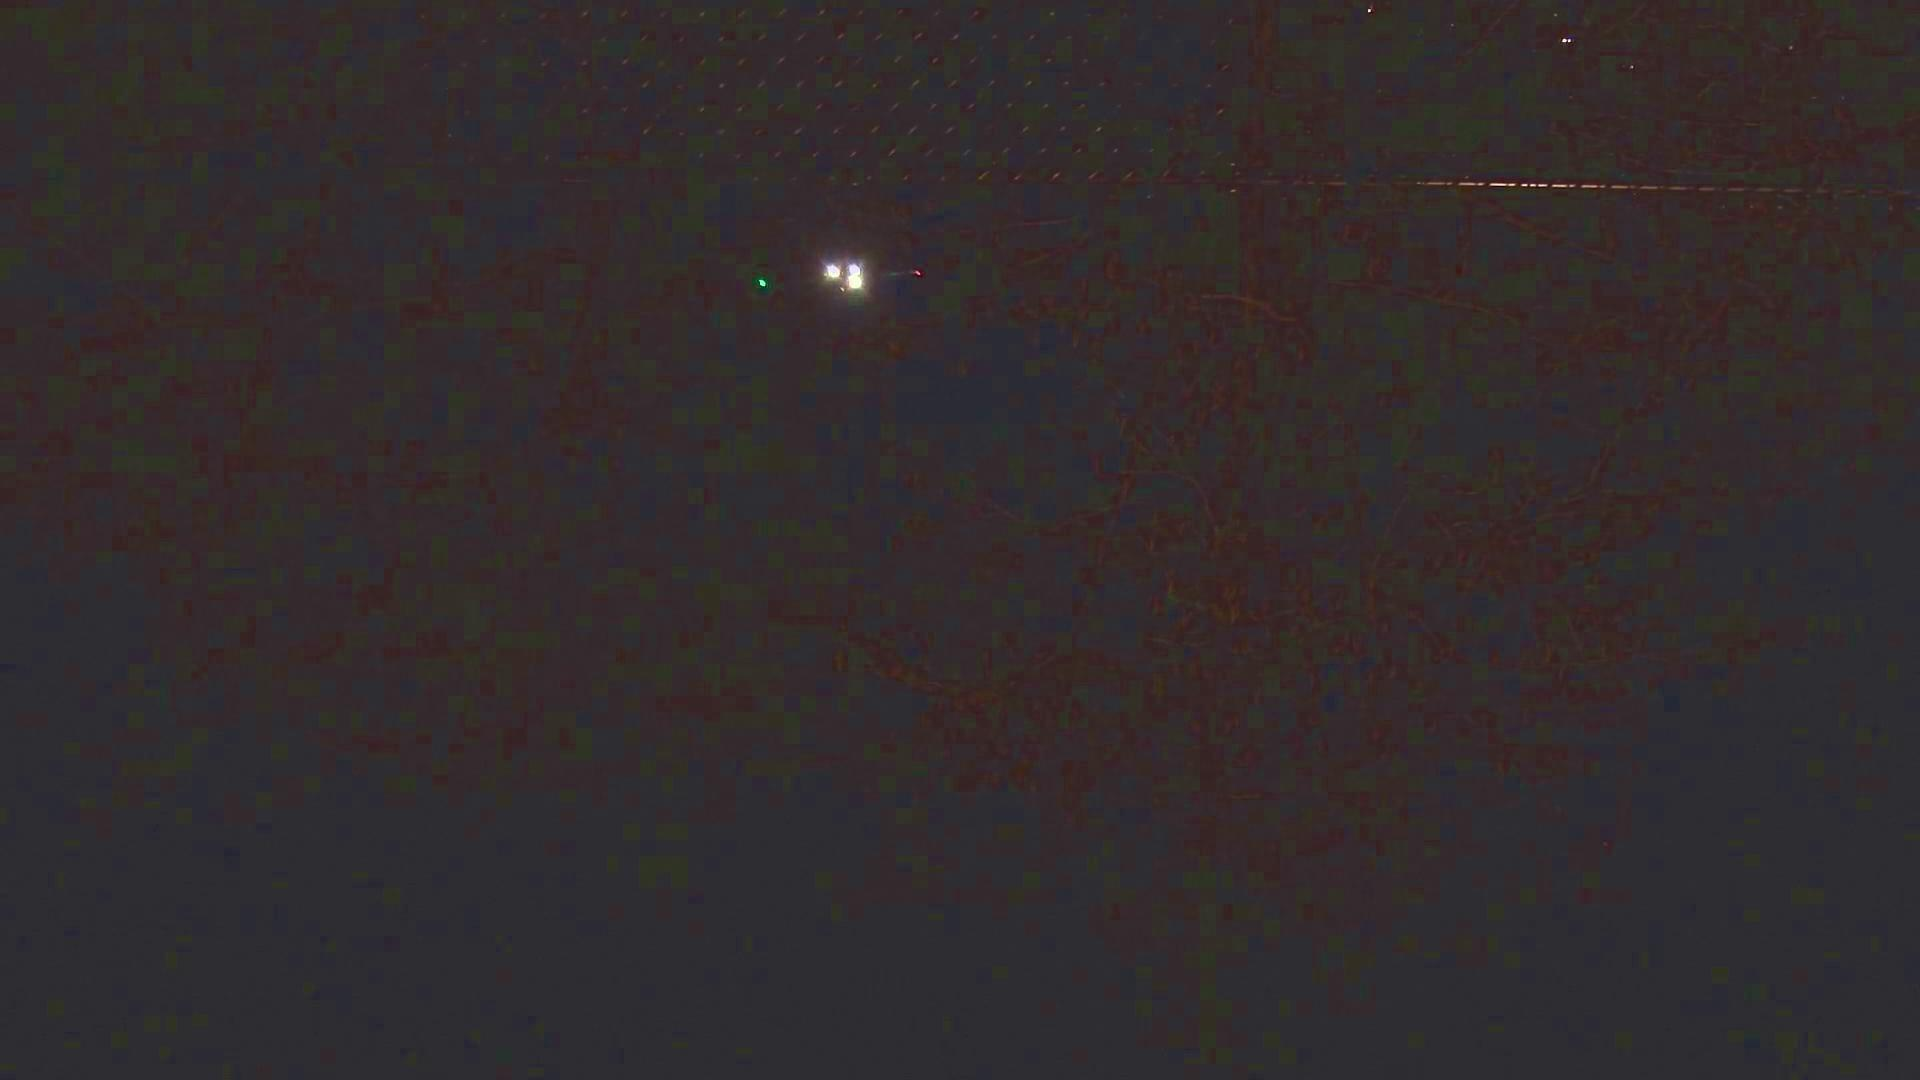Plane: (717, 247, 957, 310)
